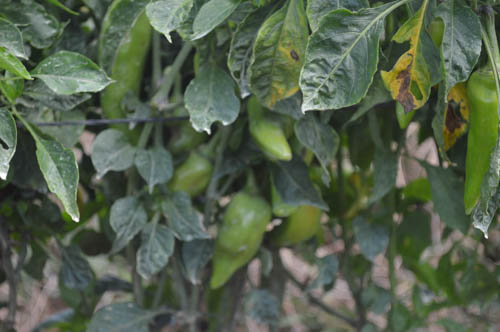ChiliPepper: (209, 191, 266, 286), (102, 19, 147, 125), (461, 77, 487, 213), (249, 105, 295, 161), (167, 149, 213, 197)
